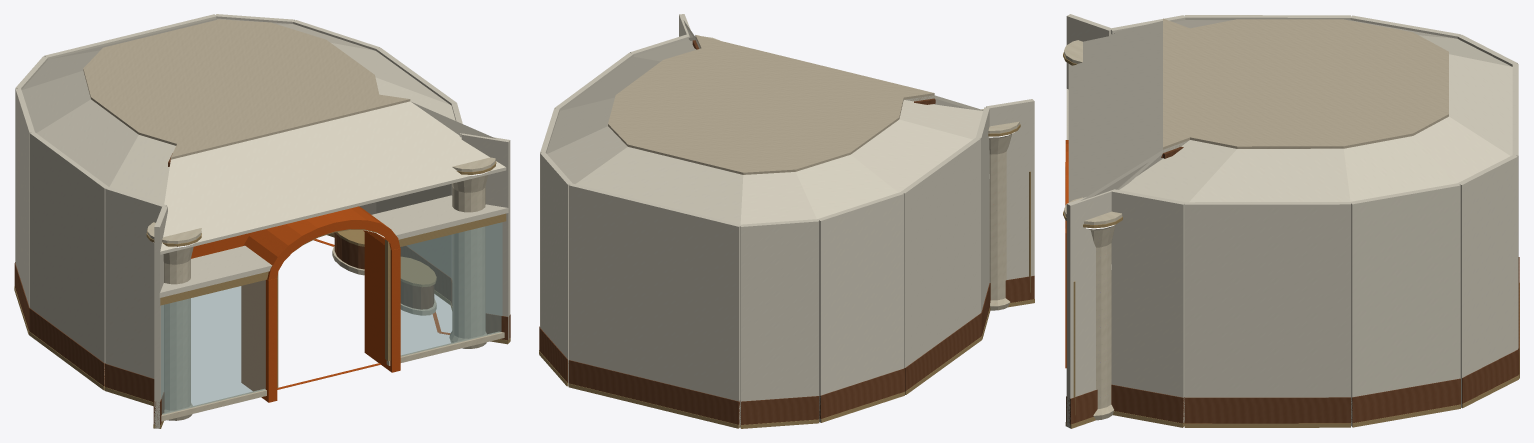
The model's file is AST-RTL-002.glb.
The picture shows the model from 3 angles, left to right: view 1: azimuth 30°, elevation 25°; view 2: azimuth 150°, elevation 25°; view 3: azimuth 270°, elevation 25°; orthographic projection. The views are drawn at different scales.
Visible parts, largest first — view 1: CUR_RaisedCeiling, CUR_CeilingSoffit_11, CUR_Wall_02, CUR_FrontGlass_-1, CUR_FrontGlass_1, CUR_Wall_01, CUR_StreetColumn_1, CUR_CeilingSoffit_02, CUR_StreetColumn_-1, CUR_Wall_10, CUR_PortalJamb_-1, CUR_PortalJamb_1 (+27 smaller); view 2: CUR_Wall_05, CUR_RaisedCeiling, CUR_Wall_03, CUR_Wall_04, CUR_Wall_02, CUR_CeilingSoffit_05, CUR_Wall_06, CUR_Wall_00, CUR_CeilingSoffit_02, CUR_Dado_05, CUR_CeilingSoffit_03, CUR_StreetColumn_-1 (+15 smaller); view 3: CUR_RaisedCeiling, CUR_Wall_08, CUR_Wall_07, CUR_Wall_09, CUR_CeilingSoffit_11, CUR_Wall_06, CUR_CeilingSoffit_08, CUR_Wall_10, CUR_CeilingSoffit_05, CUR_CeilingSoffit_07, CUR_Dado_08, CUR_CeilingSoffit_09 (+14 smaller).
Part boxes in pixels (x1,y1,x2,y2): CUR_RaisedCeiling: (83, 19, 410, 159); CUR_CeilingSoffit_11: (160, 101, 506, 254); CUR_Wall_02: (30, 132, 108, 383); CUR_FrontGlass_-1: (161, 280, 265, 414); CUR_FrontGlass_1: (400, 222, 502, 356); CUR_Wall_01: (105, 187, 166, 378); CUR_StreetColumn_1: (449, 157, 495, 348); CUR_CeilingSoffit_02: (36, 99, 138, 186); CUR_StreetColumn_-1: (147, 222, 201, 420); CUR_Wall_10: (461, 133, 510, 339); CUR_PortalJamb_-1: (241, 278, 277, 402); CUR_PortalJamb_1: (364, 231, 400, 372); CUR_Wall_05: (569, 183, 741, 427); CUR_RaisedCeiling: (608, 35, 934, 174); CUR_Wall_03: (817, 192, 904, 422); CUR_Wall_04: (740, 219, 819, 427); CUR_Wall_02: (901, 137, 980, 367); CUR_CeilingSoffit_05: (575, 147, 743, 224); CUR_Wall_06: (540, 152, 572, 386); CUR_Wall_00: (986, 99, 1034, 279); CUR_CeilingSoffit_02: (851, 119, 972, 192); CUR_Dado_05: (568, 360, 740, 424); CUR_CeilingSoffit_03: (796, 154, 898, 218); CUR_StreetColumn_-1: (981, 109, 1019, 310); CUR_RaisedCeiling: (1163, 18, 1448, 152); CUR_Wall_08: (1184, 202, 1350, 397); CUR_Wall_07: (1350, 183, 1460, 426); CUR_Wall_09: (1110, 189, 1185, 422); CUR_CeilingSoffit_11: (1068, 21, 1162, 202); CUR_Wall_06: (1457, 155, 1517, 407); CUR_CeilingSoffit_08: (1189, 148, 1350, 202); CUR_Wall_10: (1066, 190, 1111, 427); CUR_CeilingSoffit_05: (1449, 54, 1512, 155); CUR_CeilingSoffit_07: (1344, 136, 1455, 201); CUR_Dado_08: (1184, 397, 1350, 423); CUR_CeilingSoffit_09: (1119, 140, 1236, 202).
Bounding box in the file's own units: 11.77 × 7.12 × 11.8.
Materials: 8 (6 with a texture image).
